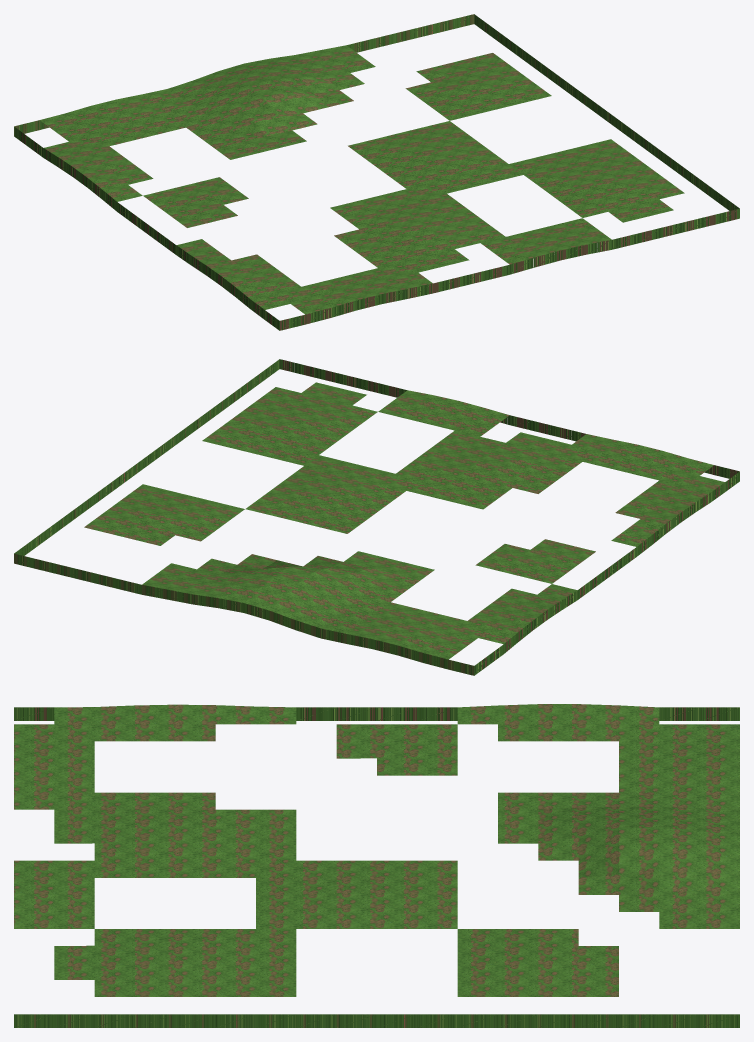
The model's file is rv_terrain_12.gltf.
3 renders of one model, top to bottom at view 1: azimuth 30°, elevation 25°; view 2: azimuth 150°, elevation 25°; view 3: azimuth 270°, elevation 25°, orthographic. The views are drawn at different scales.
Visible parts, largest first — view 1: RV_Terrain_12; view 2: RV_Terrain_12; view 3: RV_Terrain_12.
Part boxes in pixels (left/top/right/bottom): RV_Terrain_12: left=14, top=14, right=739, bottom=330; RV_Terrain_12: left=14, top=359, right=739, bottom=675; RV_Terrain_12: left=14, top=704, right=739, bottom=1027.
Size of the model in its own units: 72 by 3.29 by 72.
Materials: 2 (1 with a texture image).
